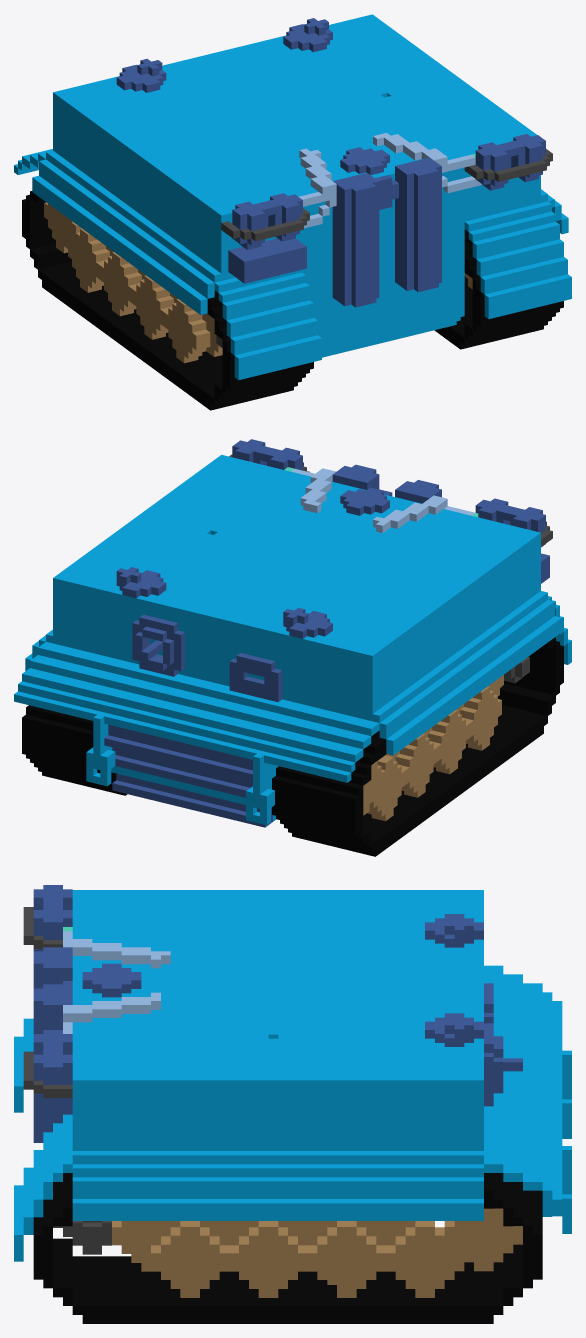
The model's file is Tank_Blue-1.obj.
3 renders of one model, top to bottom at view 1: azimuth 30°, elevation 25°; view 2: azimuth 150°, elevation 25°; view 3: azimuth 270°, elevation 25°, orthographic. The views are drawn at different scales.
Size of the model in its own units: 5.3 by 2.9 by 5.7.
1 material, 1 textured.
